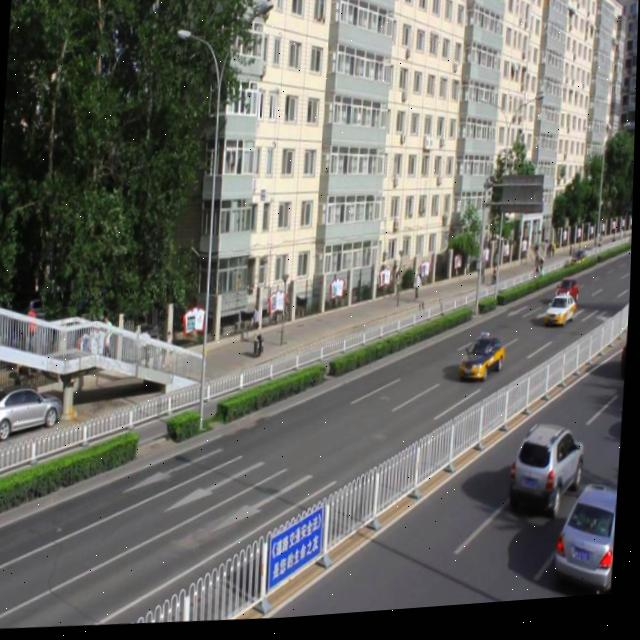car: (553, 486, 621, 596), (511, 425, 587, 518), (459, 340, 506, 390), (544, 297, 577, 333)
